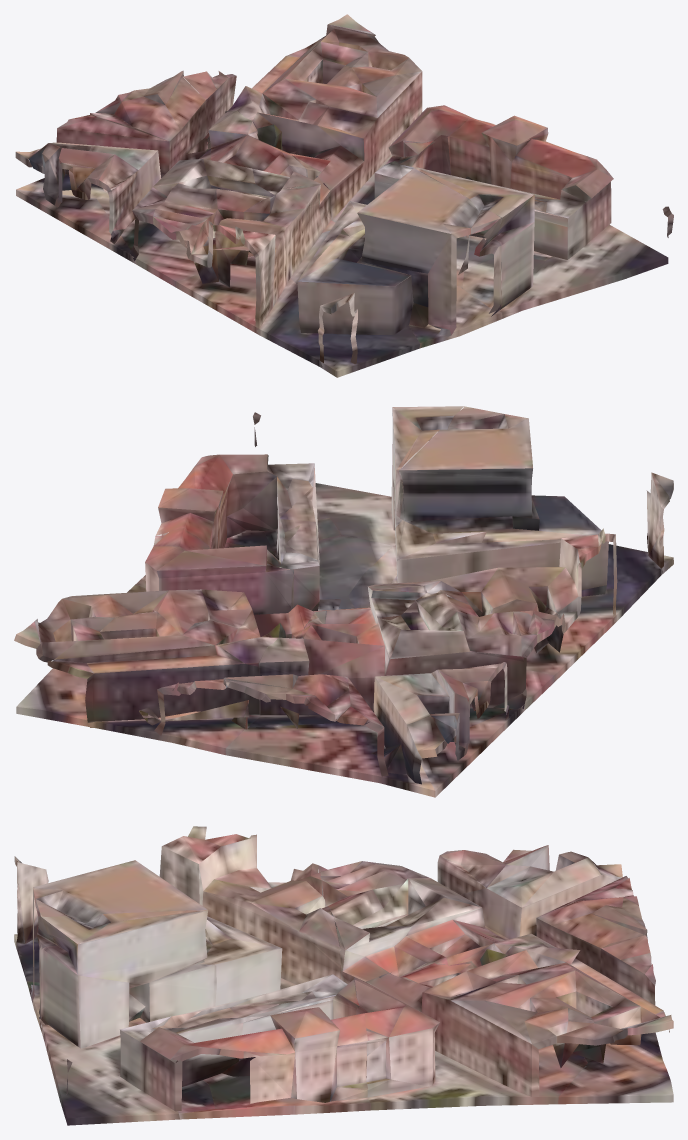
3 views of the same model, one above another, from view 1: azimuth 30°, elevation 25°; view 2: azimuth 150°, elevation 25°; view 3: azimuth 270°, elevation 25° (orthographic). The views are drawn at different scales.
Visible parts, largest first — view 1: Mesh_0; view 2: Mesh_0; view 3: Mesh_0.
Boxes of the visible parts, x1,y1,x2,y2 form: Mesh_0: (15, 14, 673, 377); Mesh_0: (14, 406, 673, 797); Mesh_0: (14, 826, 673, 1125).
Bounding box in the file's own units: 136 × 34.33 × 165.
1 material, 1 textured.
